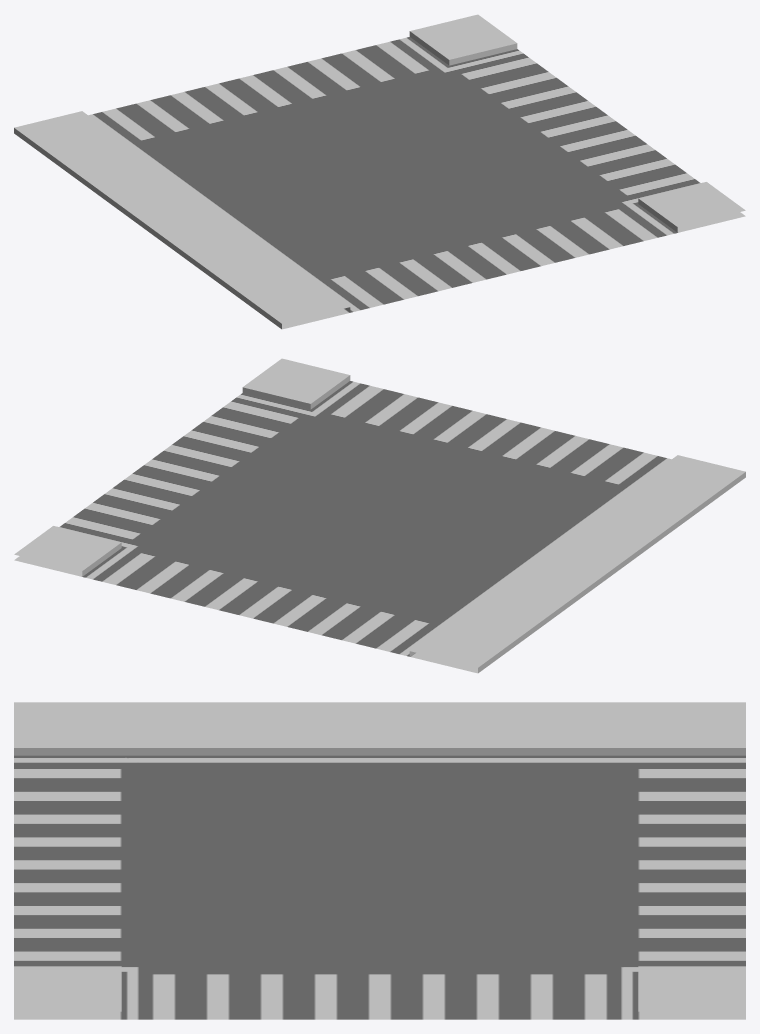
Rendered from Small Intersection Closed.fbx.
3 views of the same model, one above another, from view 1: azimuth 30°, elevation 25°; view 2: azimuth 150°, elevation 25°; view 3: azimuth 270°, elevation 25° (orthographic). The views are drawn at different scales.
Visible parts, largest first — view 1: Small Intersection Closed; view 2: Small Intersection Closed; view 3: Small Intersection Closed.
Part boxes in pixels (x1=…): Small Intersection Closed: x1=14, y1=14, x2=745, y2=329; Small Intersection Closed: x1=14, y1=358, x2=745, y2=673; Small Intersection Closed: x1=14, y1=702, x2=745, y2=1019.
Bounding box in the file's own units: 1700 × 20 × 1700.
